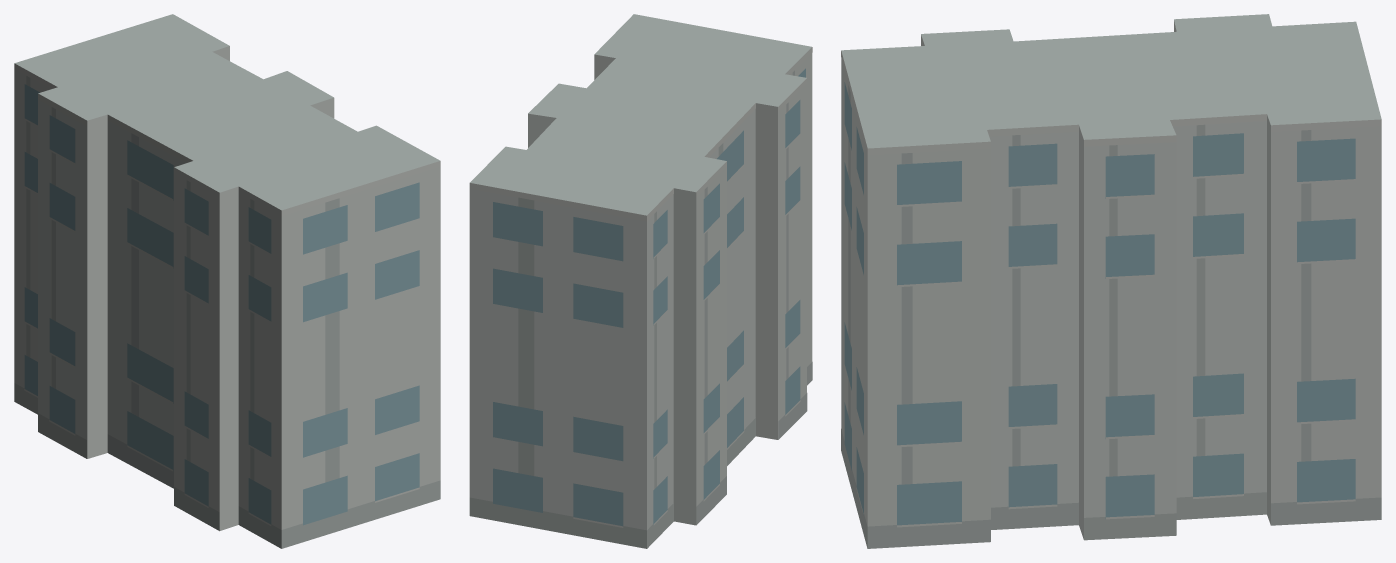
File: survey-upis-32707596.glb
3 renders of one model, left to right at view 1: azimuth 30°, elevation 25°; view 2: azimuth 150°, elevation 25°; view 3: azimuth 270°, elevation 25°, orthographic. The views are drawn at different scales.
Parts seen in each view (by area): view 1: survey-upis-32707596.tmp; view 2: survey-upis-32707596.tmp; view 3: survey-upis-32707596.tmp.
Boxes of the visible parts, <box> form: survey-upis-32707596.tmp: <box>14,14,440,548</box>; survey-upis-32707596.tmp: <box>469,14,812,548</box>; survey-upis-32707596.tmp: <box>841,14,1381,548</box>.
Size of the model in its own units: 10.24 by 14.2 by 17.38.
